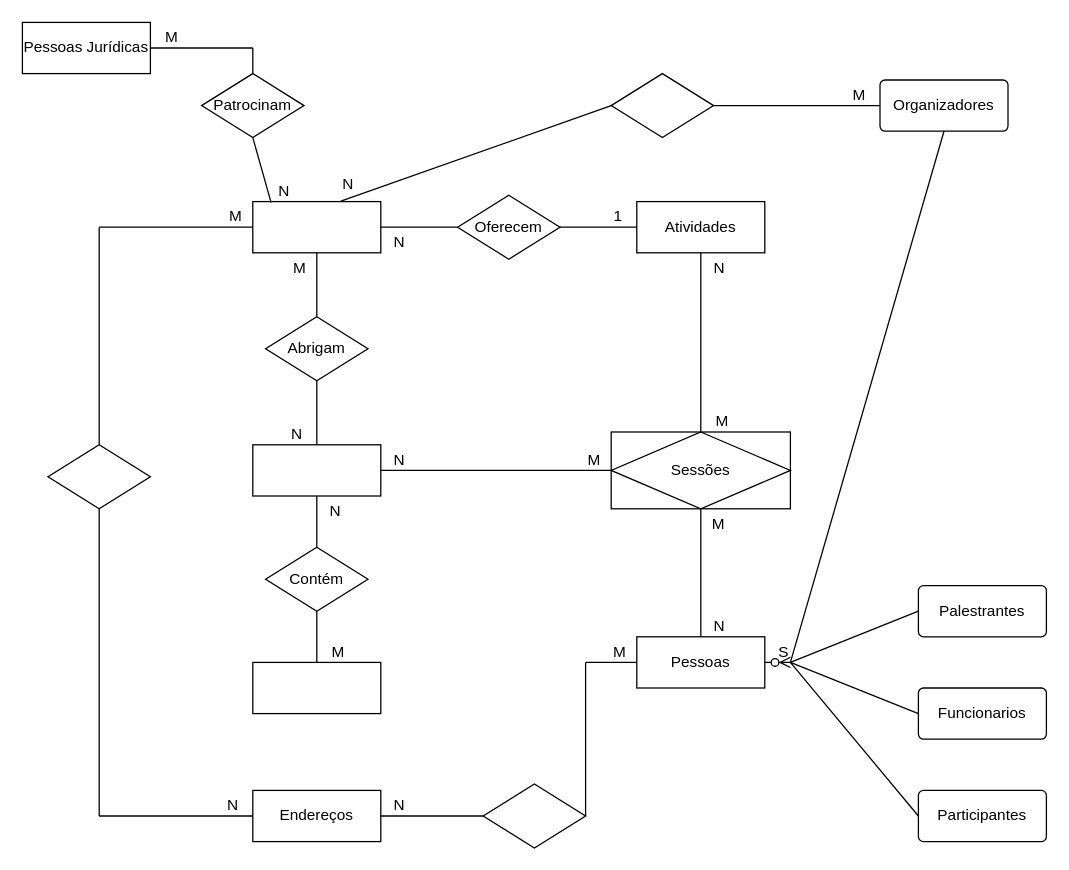
Image size: 1069x870. Some labels were removed from this diagram. Each missing label, with the centre of its shape:
"Espaços" belongs at (x=316, y=470).
"Eventos" belongs at (x=316, y=226).
"Moram" belongs at (x=534, y=815).
"Organizam" belongs at (x=662, y=105).
"Recursos" belongs at (x=316, y=687).
"Reside" belongs at (x=98, y=476).
